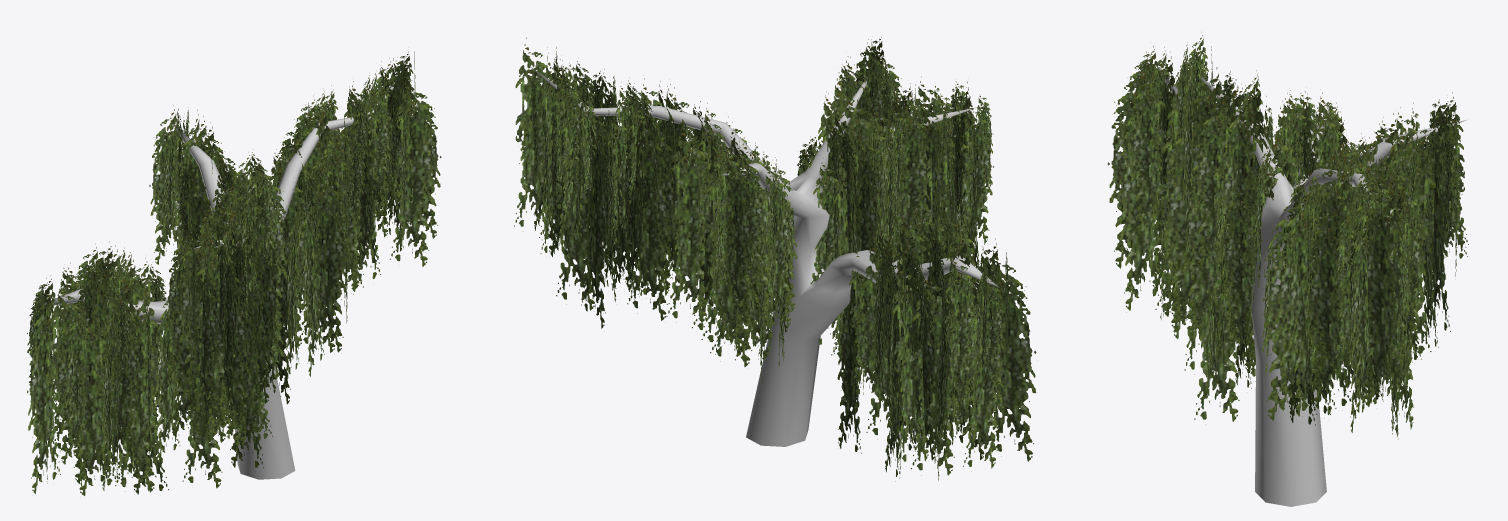
The model's file is sauce lloron.fbx.
3 views of the same model, side by side, from view 1: azimuth 30°, elevation 25°; view 2: azimuth 150°, elevation 25°; view 3: azimuth 270°, elevation 25° (orthographic). The views are drawn at different scales.
Visible parts, largest first — view 1: leaves, trunk; view 2: leaves, trunk; view 3: leaves, trunk.
Part boxes in pixels (bbox=[...]): leaves: bbox=[27, 51, 441, 495]; trunk: bbox=[30, 82, 394, 479]; leaves: bbox=[514, 37, 1036, 481]; trunk: bbox=[529, 66, 998, 446]; leaves: bbox=[1107, 32, 1468, 439]; trunk: bbox=[1155, 64, 1467, 506].
Size of the model in its own units: 3968 by 3002 by 2460.
